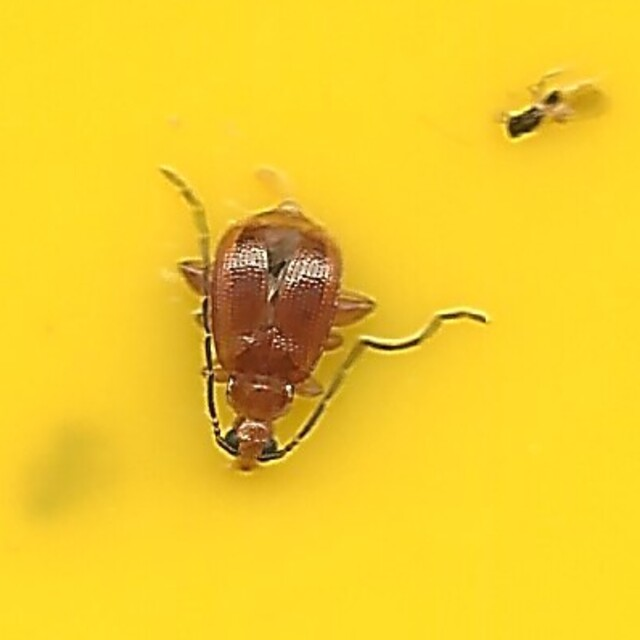Coleoptera: (161, 165, 479, 475)
